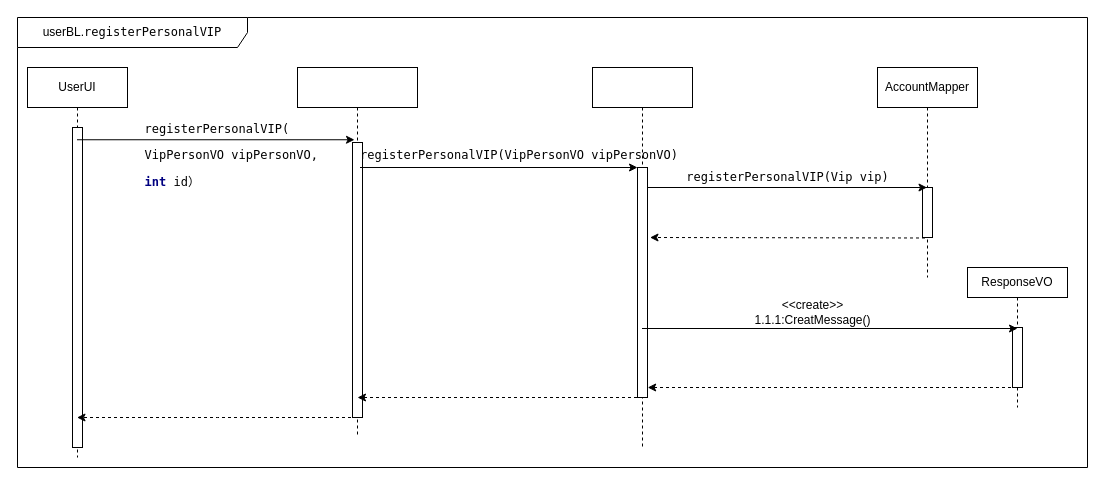
This 1105x485 diagram has some shape labels left out. The box of each missing label's shape, as (x1, y1, x2, y2) in pixels:
AccountController: (296, 66, 418, 438)
userBL: (592, 66, 692, 448)
